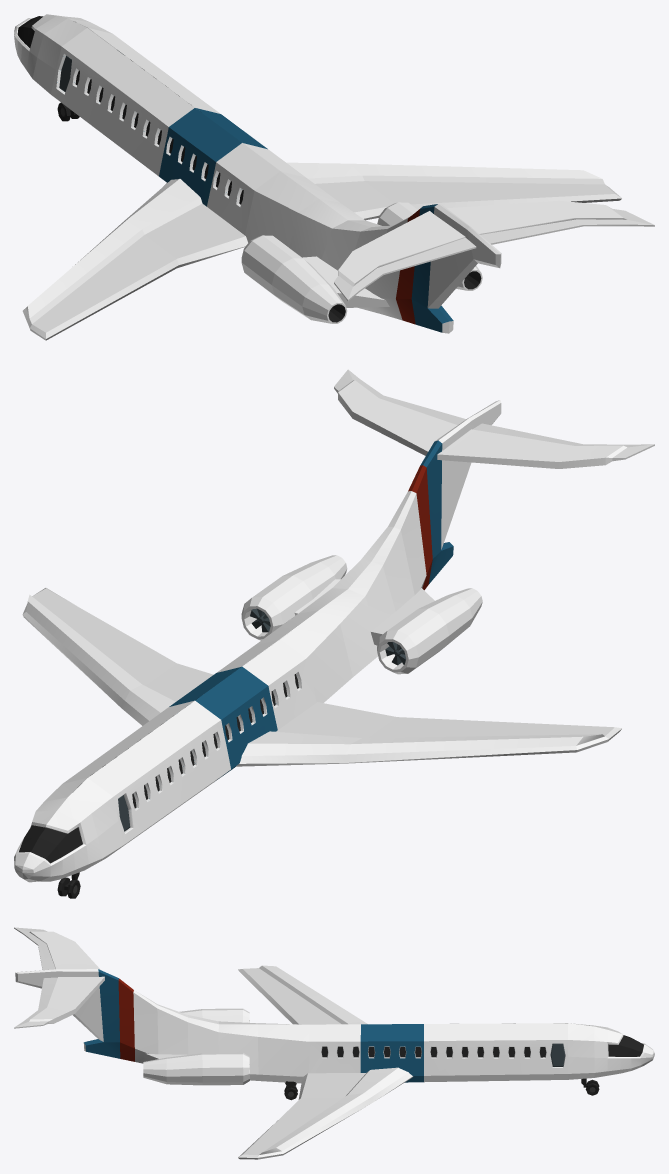
Rendered from Boing plane (2).fbx.
The picture shows the model from 3 angles, top to bottom: view 1: azimuth 30°, elevation 25°; view 2: azimuth 150°, elevation 25°; view 3: azimuth 270°, elevation 25°; orthographic projection. The views are drawn at different scales.
Visible parts, largest first — view 1: BP_Base, BP_Wing_left, BP_Wing_right, BP_Flaps, BP_Propeller; view 2: BP_Base, BP_Wing_left, BP_Flaps, BP_Wing_right, BP_Propeller; view 3: BP_Base, BP_Wing_right, BP_Flaps, BP_Propeller, BP_Wing_left.
Boxes of the visible parts, box(x1,y1,x2,y2) form: BP_Base: box(14, 14, 501, 333); BP_Wing_left: box(22, 179, 247, 340); BP_Wing_right: box(286, 162, 621, 220); BP_Flaps: box(334, 200, 654, 301); BP_Propeller: box(241, 202, 482, 323); BP_Base: box(14, 400, 501, 898); BP_Wing_left: box(236, 702, 621, 766); BP_Flaps: box(334, 369, 654, 468); BP_Wing_right: box(22, 588, 213, 725); BP_Propeller: box(241, 555, 482, 674); BP_Base: box(15, 969, 654, 1100); BP_Wing_right: box(238, 1067, 412, 1159); BP_Flaps: box(14, 927, 104, 1028); BP_Propeller: box(143, 1008, 249, 1085); BP_Wing_left: box(238, 965, 367, 1024).
Size of the model in its own units: 6.17 by 1.9 by 8.84.
Materials: 1 (1 with a texture image).
